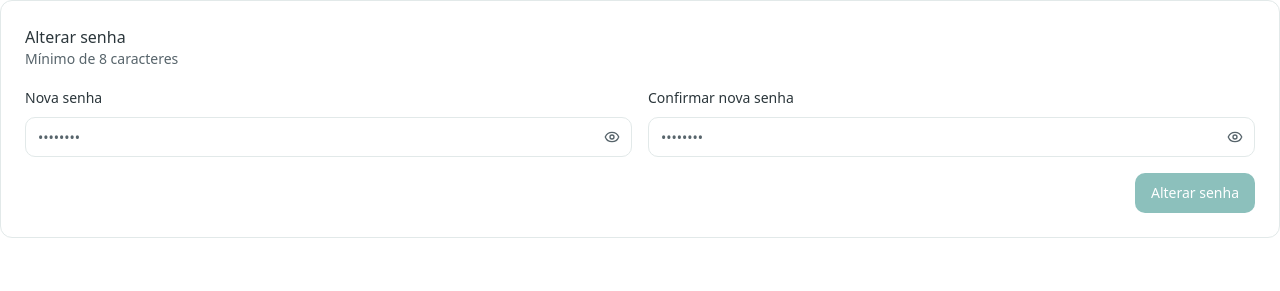
ChangePasswordCard › mesma senha da atual volta em português
In the password field labelled "Nova senha": (328, 137) [25,117,632,157], type "Nova-Teste-123"
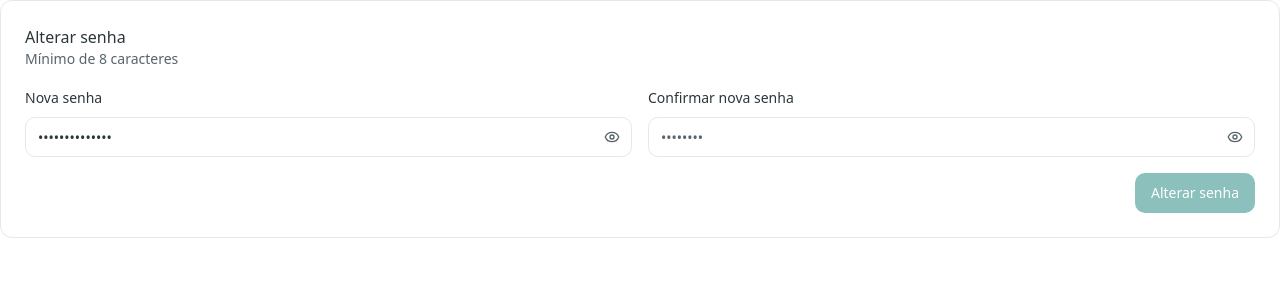
In the password field labelled "Confirmar nova senha": (952, 137) [648,117,1255,157], type "Nova-Teste-123"
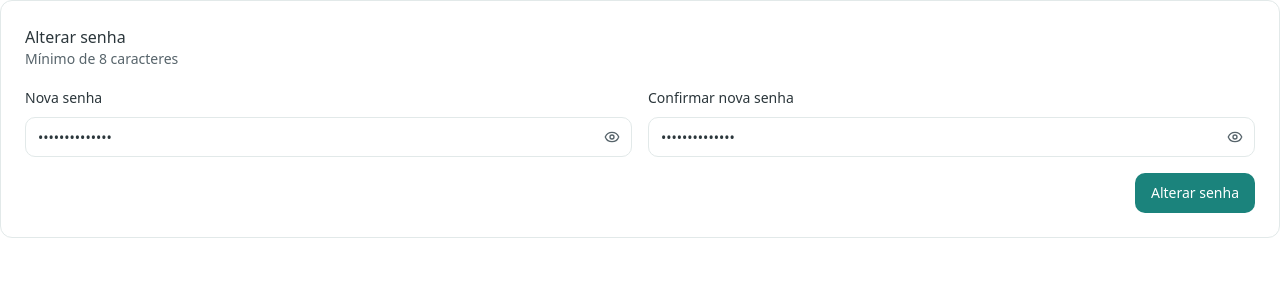
Click the button "Alterar senha": (1195, 193) [1135,173,1255,213]
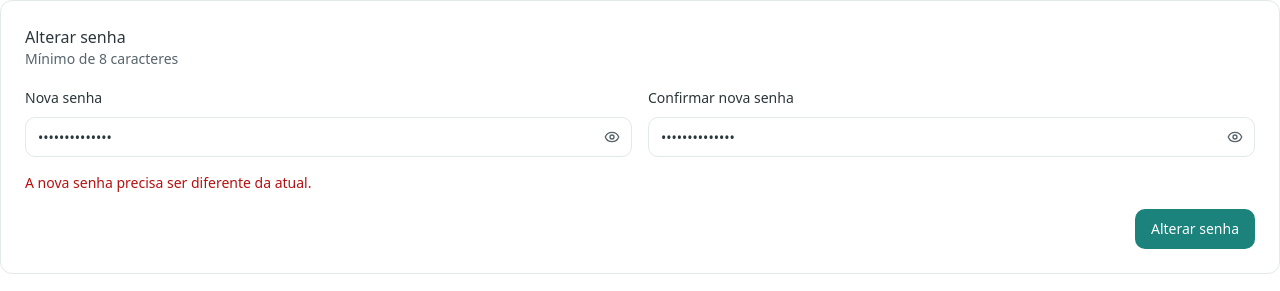
Now the text "A nova senha precisa ser diferente da atual." is shown, box [25,173,312,192]
